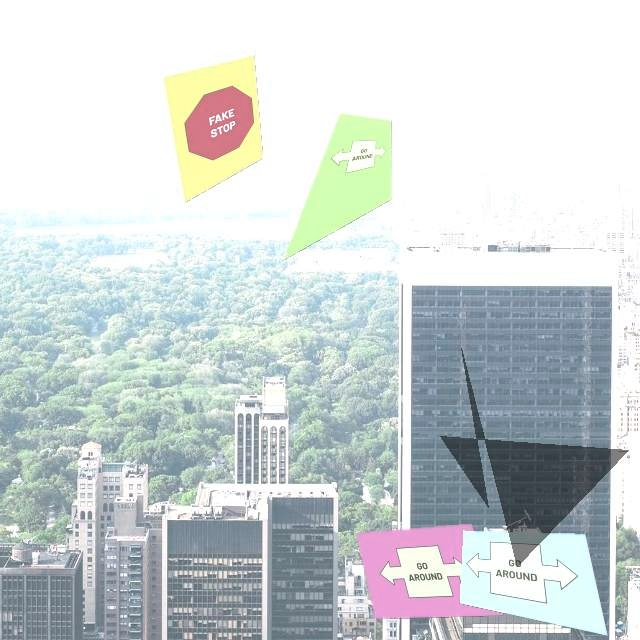FAKE_STOP: (181, 80, 257, 173)
GO_AROUND: (465, 541, 585, 610), (374, 543, 479, 602), (324, 134, 386, 184)
